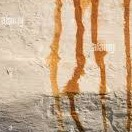Corrosion: (63, 1, 86, 132), (44, 1, 63, 132), (90, 1, 108, 132), (122, 1, 132, 132)
